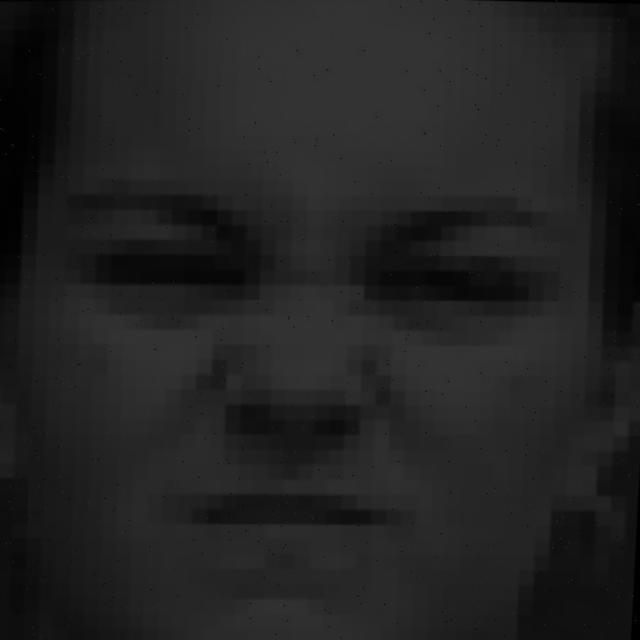Disgust: (15, 99, 588, 619)
